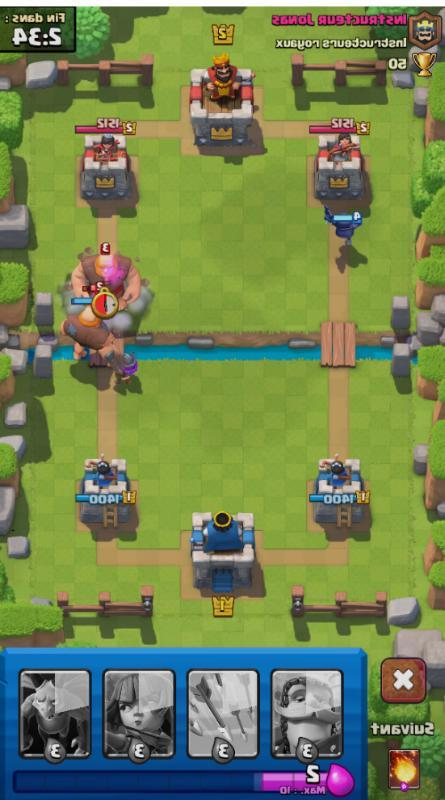enemy_giant: (68, 238, 144, 310)
player_giant: (58, 300, 120, 369)
player_mini_pekka: (317, 201, 370, 246)
player_musketeer: (109, 343, 143, 387)
